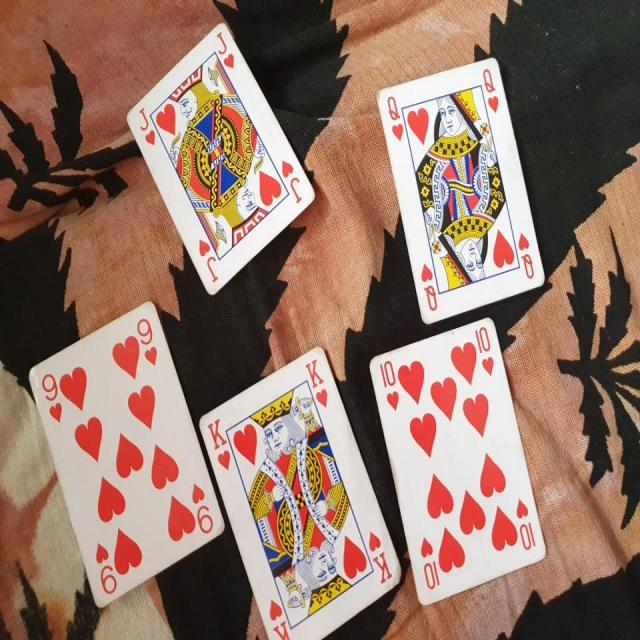10 Hearts: (363, 308, 550, 606)
9 Hearts: (27, 301, 235, 618)
J Hearts: (119, 14, 318, 297)
K Hearts: (197, 338, 406, 640)
Q Hearts: (375, 42, 550, 332)
